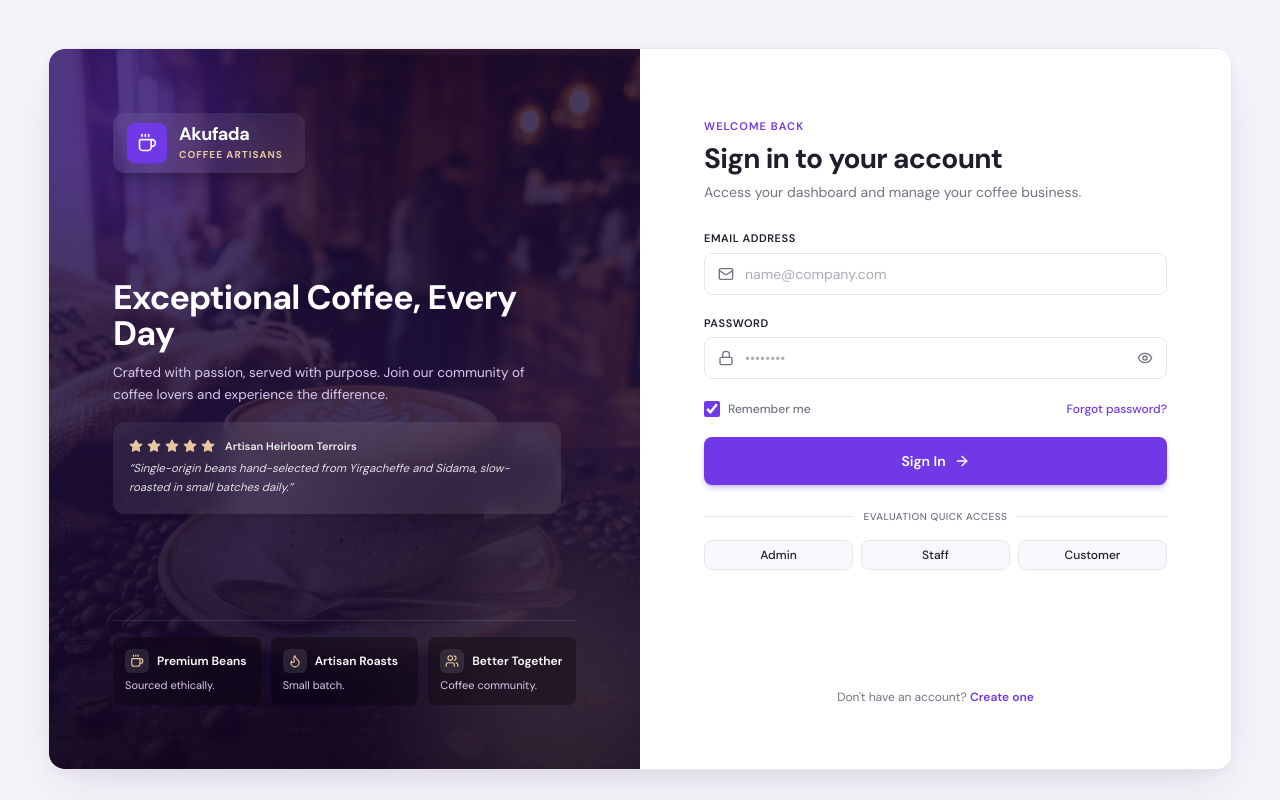
Scenario: <LoginPage /> › populates fields when clicking demo account shortcuts
Click the button "Admin": (778, 555) [704, 540, 853, 570]
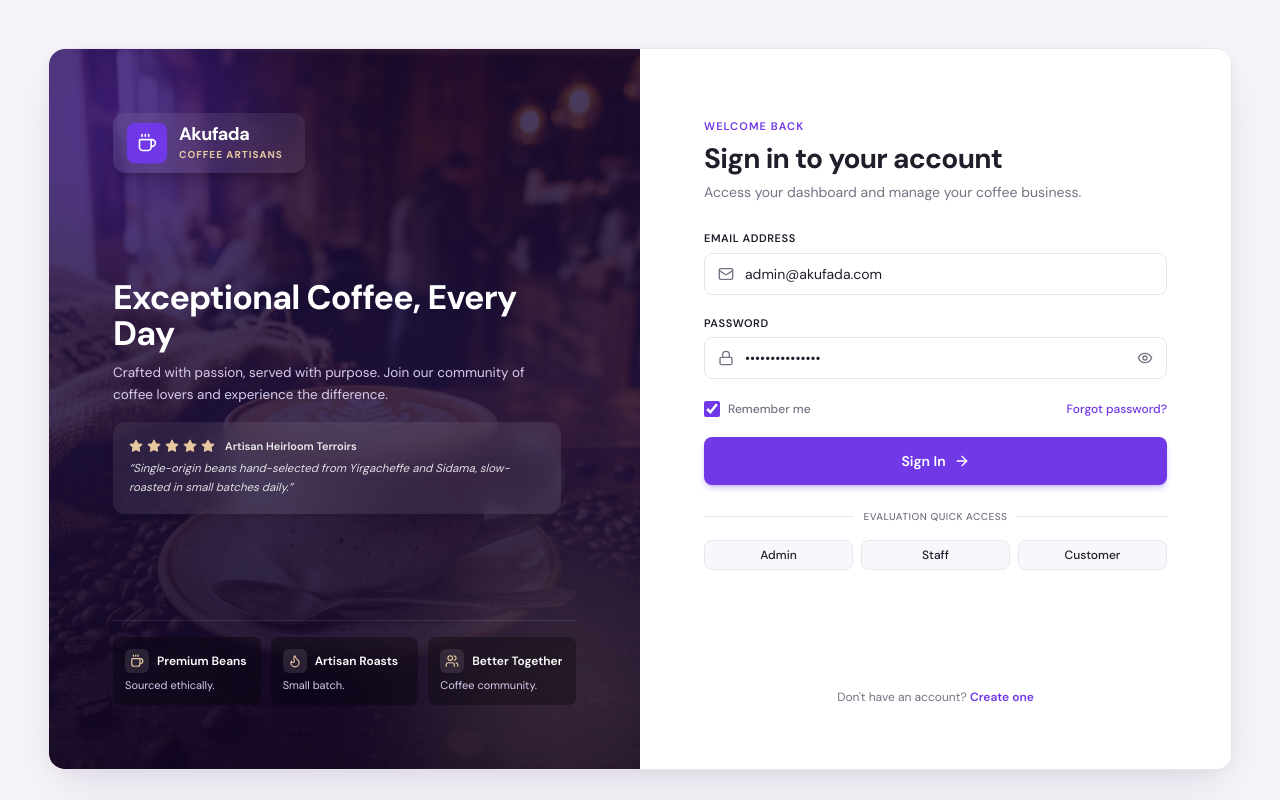
Now the field labelled "EMAIL ADDRESS" holds "admin@akufada.com", box [704, 252, 1167, 294]
Now the password field labelled "PASSWORD" holds "AdminSecret123!", box [704, 337, 1167, 379]
